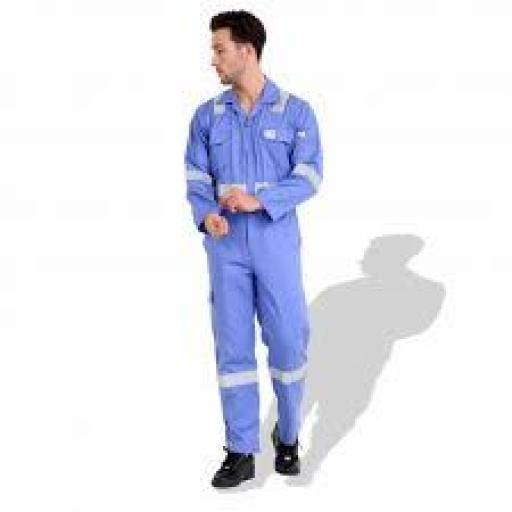safety_boots: (268, 423, 321, 485), (204, 451, 264, 494)
